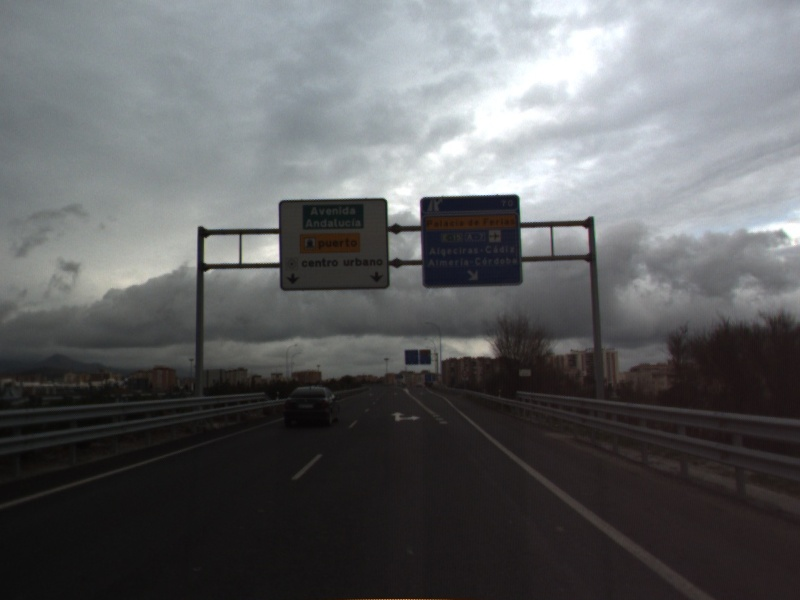STRAIGHT_RIGHT: (388, 409, 423, 423)
